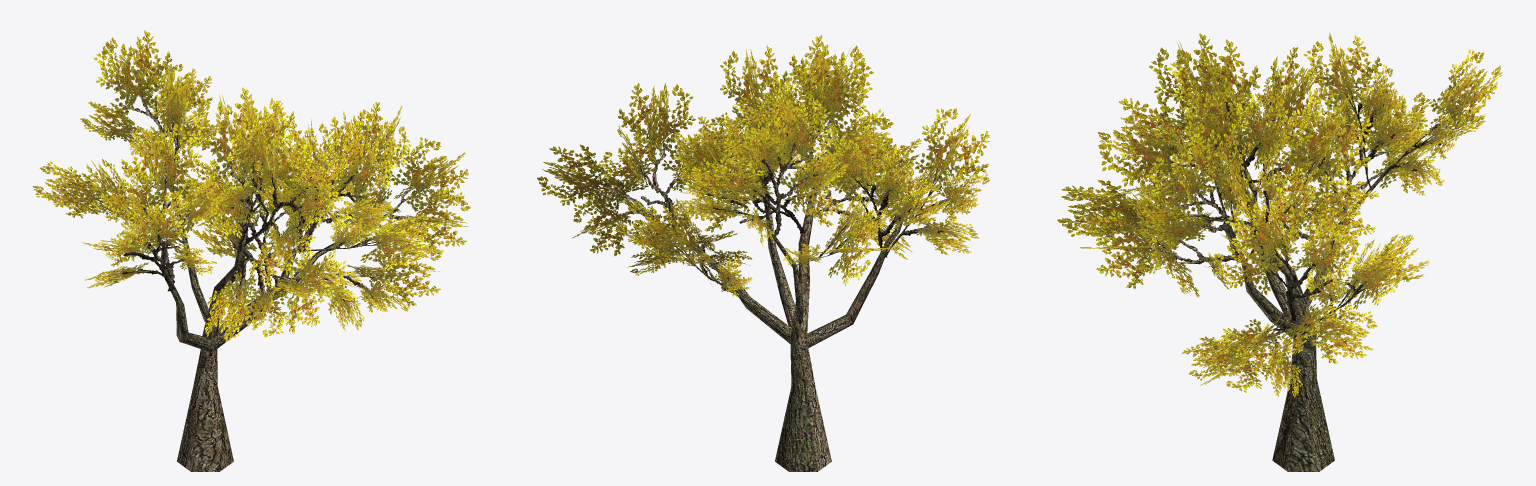
File: roble_otono_c.glb
3 renders of one model, left to right at view 1: azimuth 30°, elevation 25°; view 2: azimuth 150°, elevation 25°; view 3: azimuth 270°, elevation 25°, orthographic. The views are drawn at different scales.
Visible parts, largest first — view 1: Copa, Tronco; view 2: Copa, Tronco; view 3: Copa, Tronco.
Boxes of the visible parts, bbox=[...] form: Copa: bbox=[32, 30, 470, 342]; Tronco: bbox=[89, 93, 429, 471]; Copa: bbox=[537, 35, 989, 296]; Tronco: bbox=[591, 91, 956, 471]; Copa: bbox=[1057, 33, 1502, 397]; Tronco: bbox=[1129, 91, 1457, 471].
Size of the model in its own units: 12.19 by 10.89 by 10.57.
Materials: 2 (2 with a texture image).
